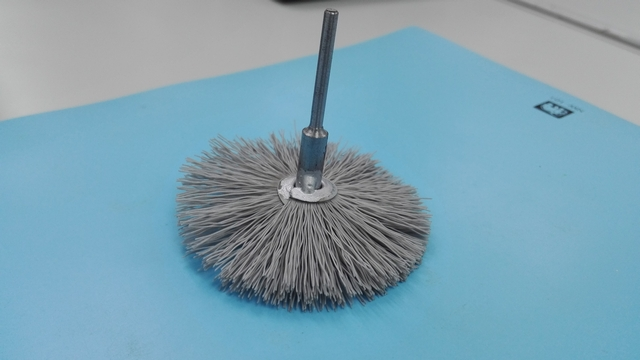TOOL: (140, 2, 484, 339), (174, 117, 435, 318)
